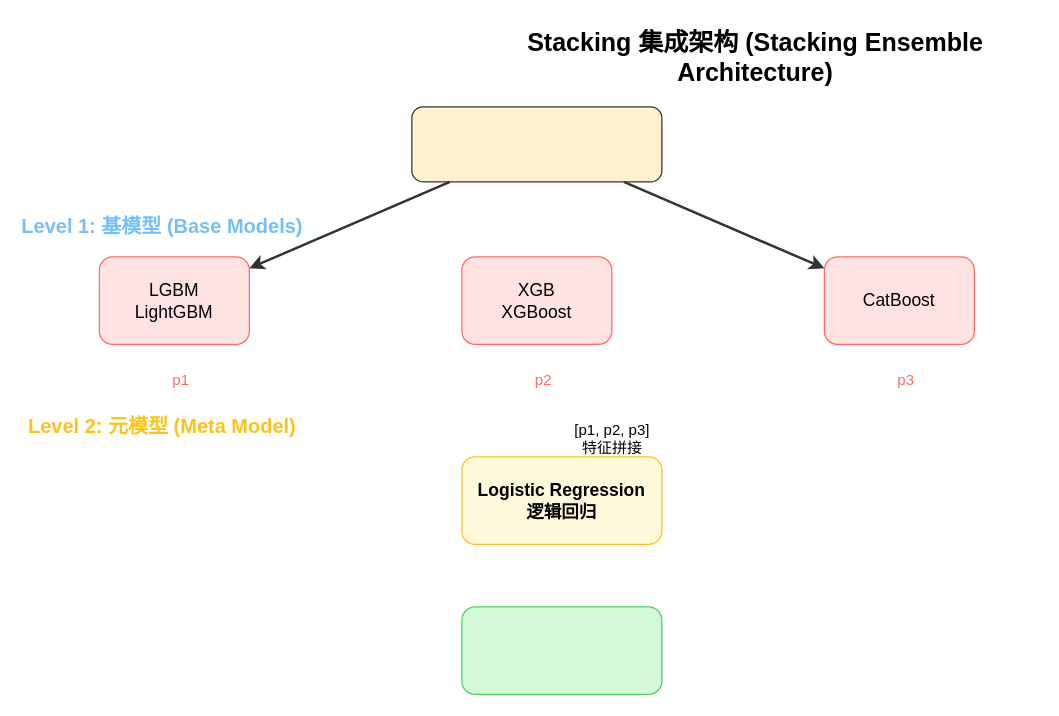
Some shapes in this 1059 by 716 pixel diagram are drawn without their labels. The shapes that lost their labels are listed below. From the top down, each one's centre as x and y in pixels, then its label:
(536,144): 输入特征 X (年龄，收入，负债，...)
(561,650): 输出：违约概率 P(default)
